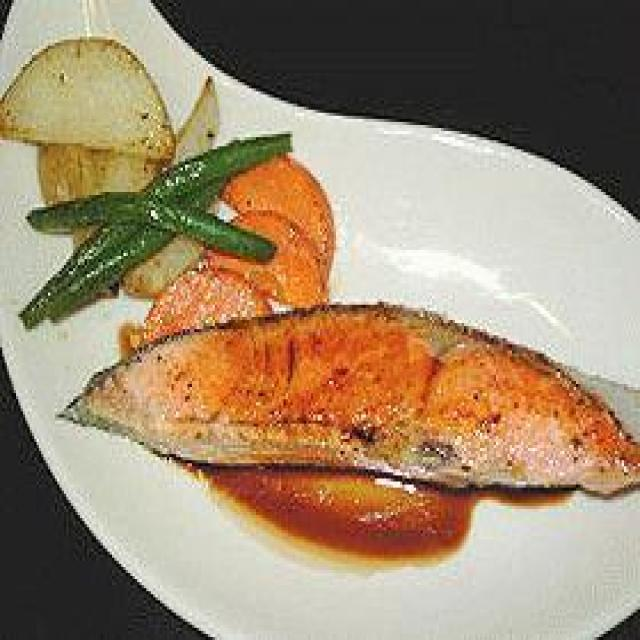熟制海鲜: (64, 286, 629, 500)
